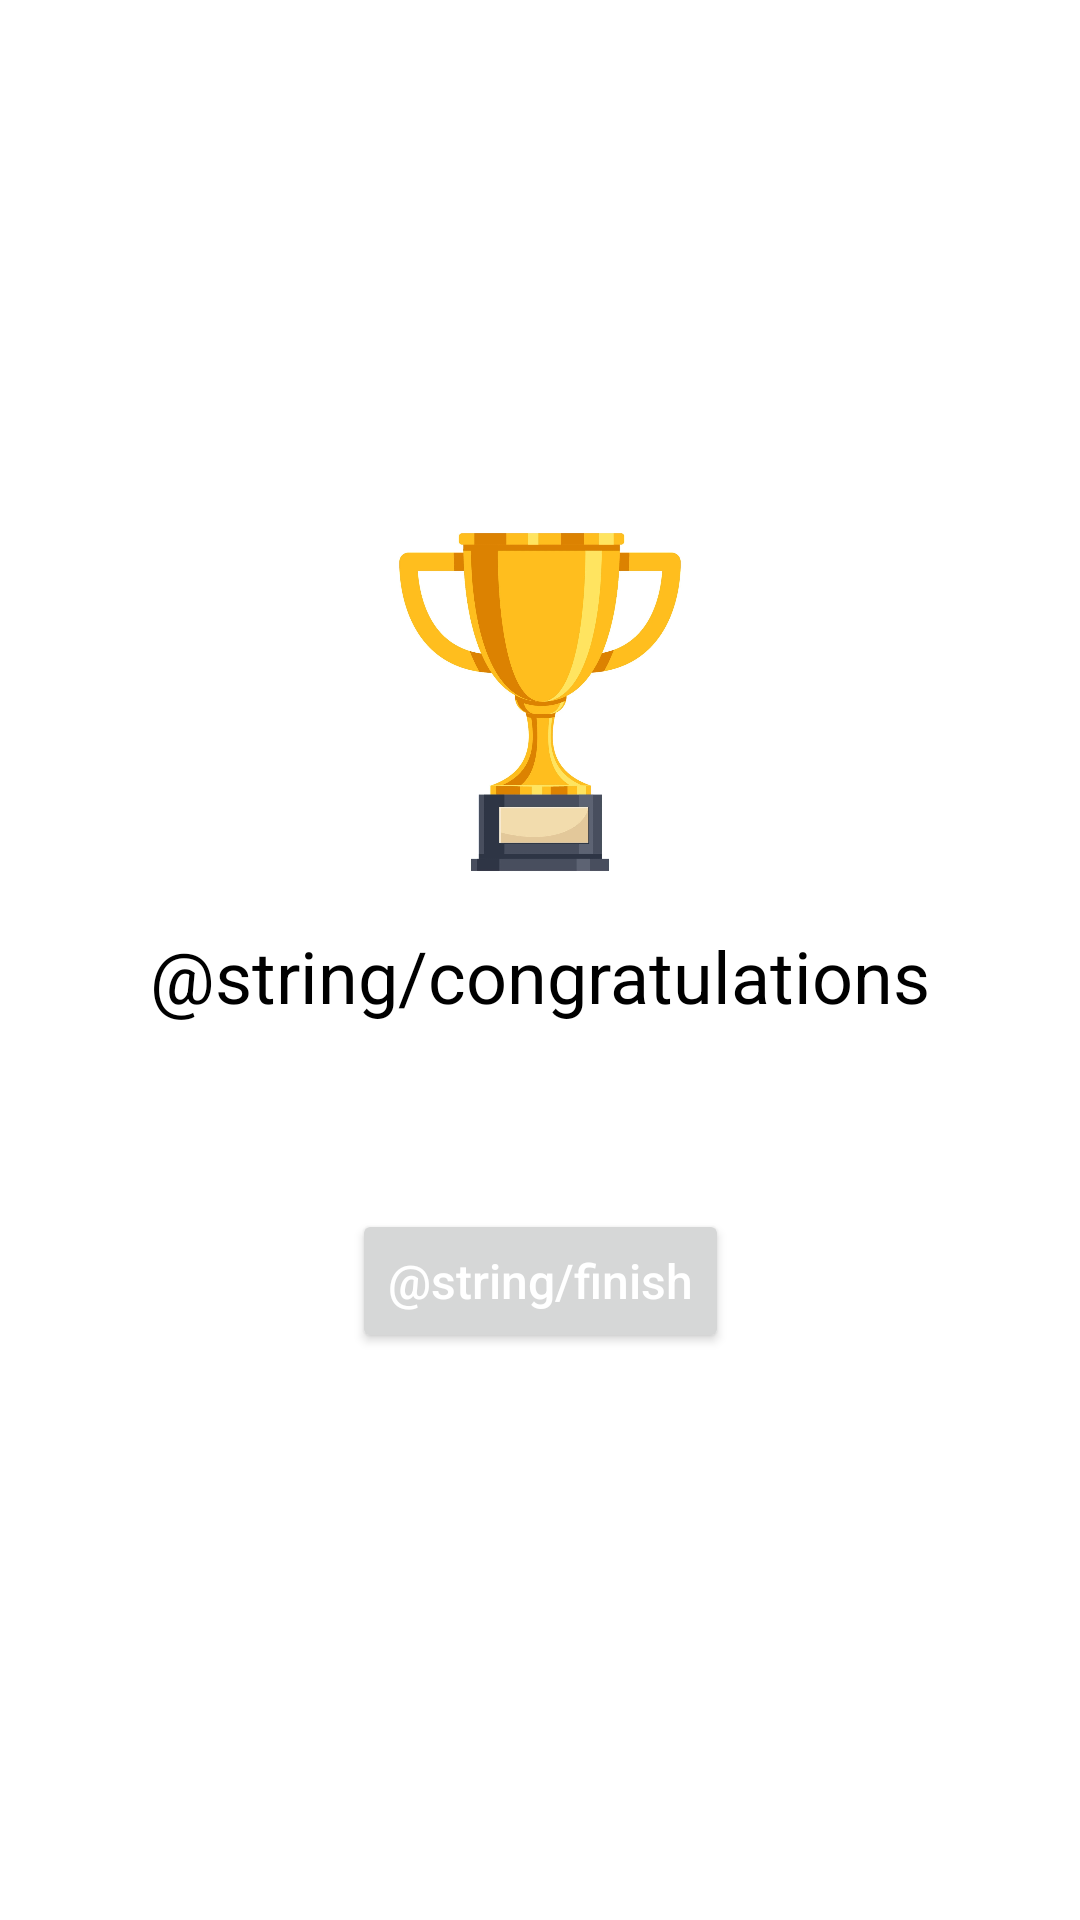

Locate icon controls on the screen. Image size 1080px x 1920px, boxes as (x1, y1, x2, y2).
trophy: (399, 533, 681, 871)
